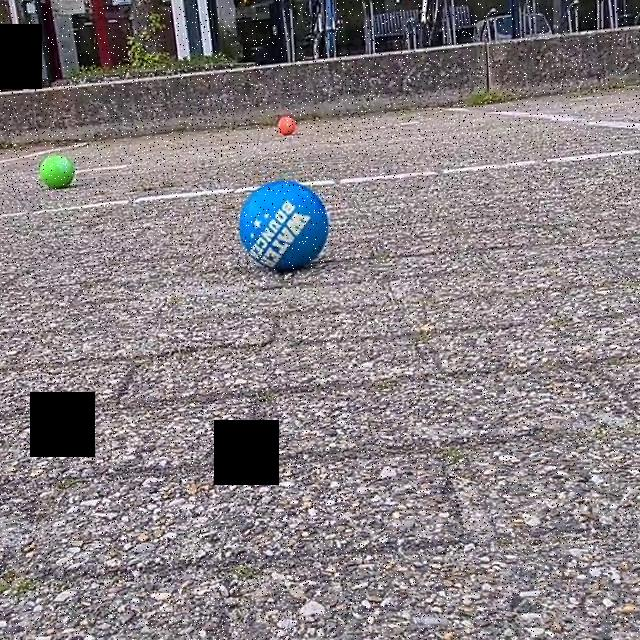ball: (38, 150, 78, 193), (275, 112, 298, 137)
